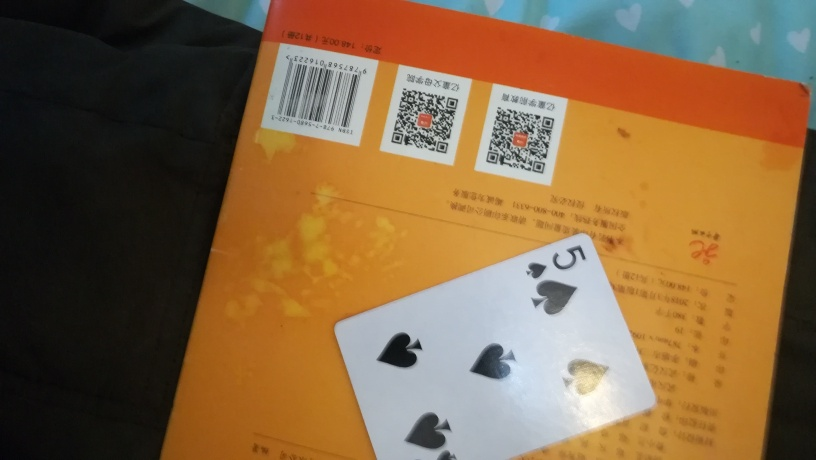ht 5: (333, 230, 658, 460)
